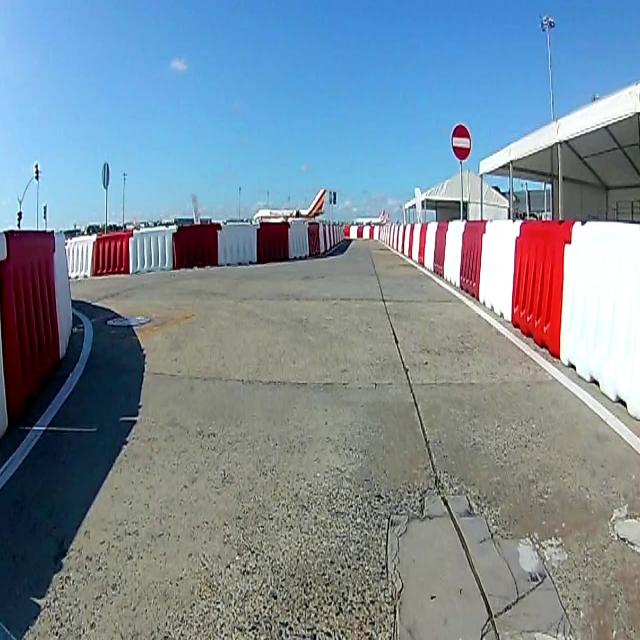girisyok: (450, 122, 472, 162)
